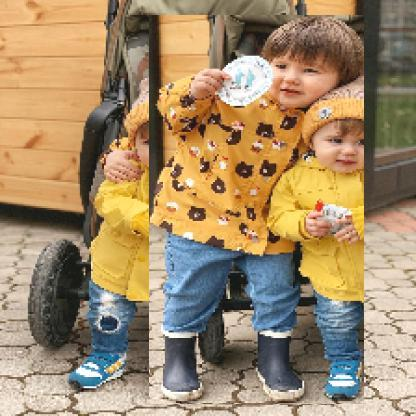child: (150, 16, 366, 406), (65, 77, 249, 400)
